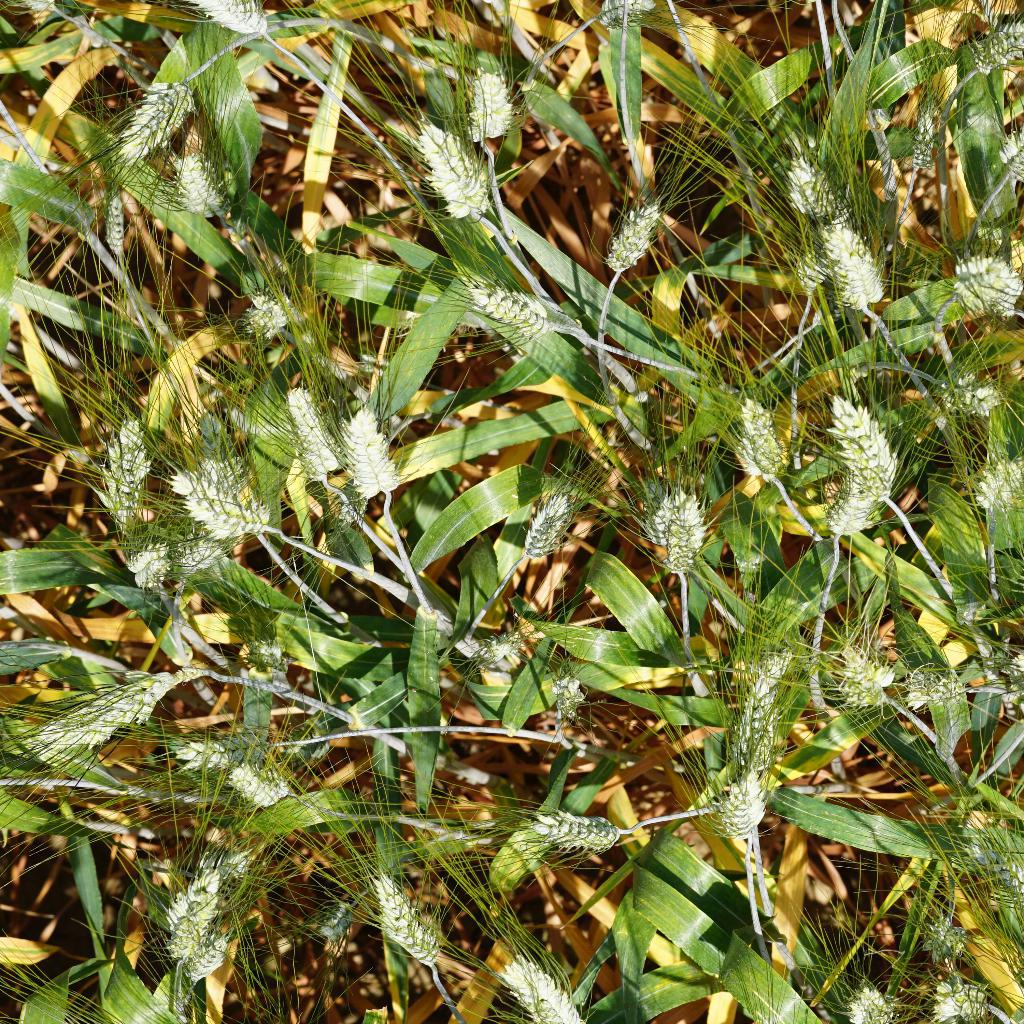0-0: (17, 666, 191, 747), (352, 866, 456, 982), (399, 105, 493, 230), (706, 641, 787, 761), (178, 462, 301, 541), (108, 74, 209, 167), (185, 405, 262, 525), (815, 212, 896, 324), (331, 393, 411, 506), (492, 941, 598, 1024), (82, 402, 152, 526), (822, 402, 907, 504), (269, 382, 343, 496), (503, 474, 583, 574), (520, 796, 632, 863), (733, 392, 803, 499), (459, 272, 557, 347), (587, 193, 666, 286), (651, 477, 718, 585), (449, 52, 523, 148), (772, 139, 848, 231), (954, 833, 1024, 925), (889, 92, 952, 182), (929, 359, 1008, 428), (163, 871, 221, 964), (945, 250, 1024, 318), (239, 276, 314, 346), (221, 762, 318, 815), (963, 440, 1024, 524), (168, 145, 232, 224), (828, 631, 893, 707), (167, 0, 280, 43), (176, 840, 267, 893), (809, 475, 881, 541), (893, 658, 979, 712), (156, 727, 242, 780), (112, 531, 180, 591), (712, 770, 770, 840), (925, 974, 1005, 1024), (963, 19, 1024, 79), (176, 927, 236, 987), (92, 176, 134, 261), (983, 103, 1024, 186), (915, 908, 972, 967), (539, 665, 595, 724), (773, 236, 825, 298), (470, 620, 530, 672), (834, 979, 901, 1024), (307, 898, 358, 955), (165, 518, 223, 568), (238, 628, 294, 676), (591, 0, 663, 30)
